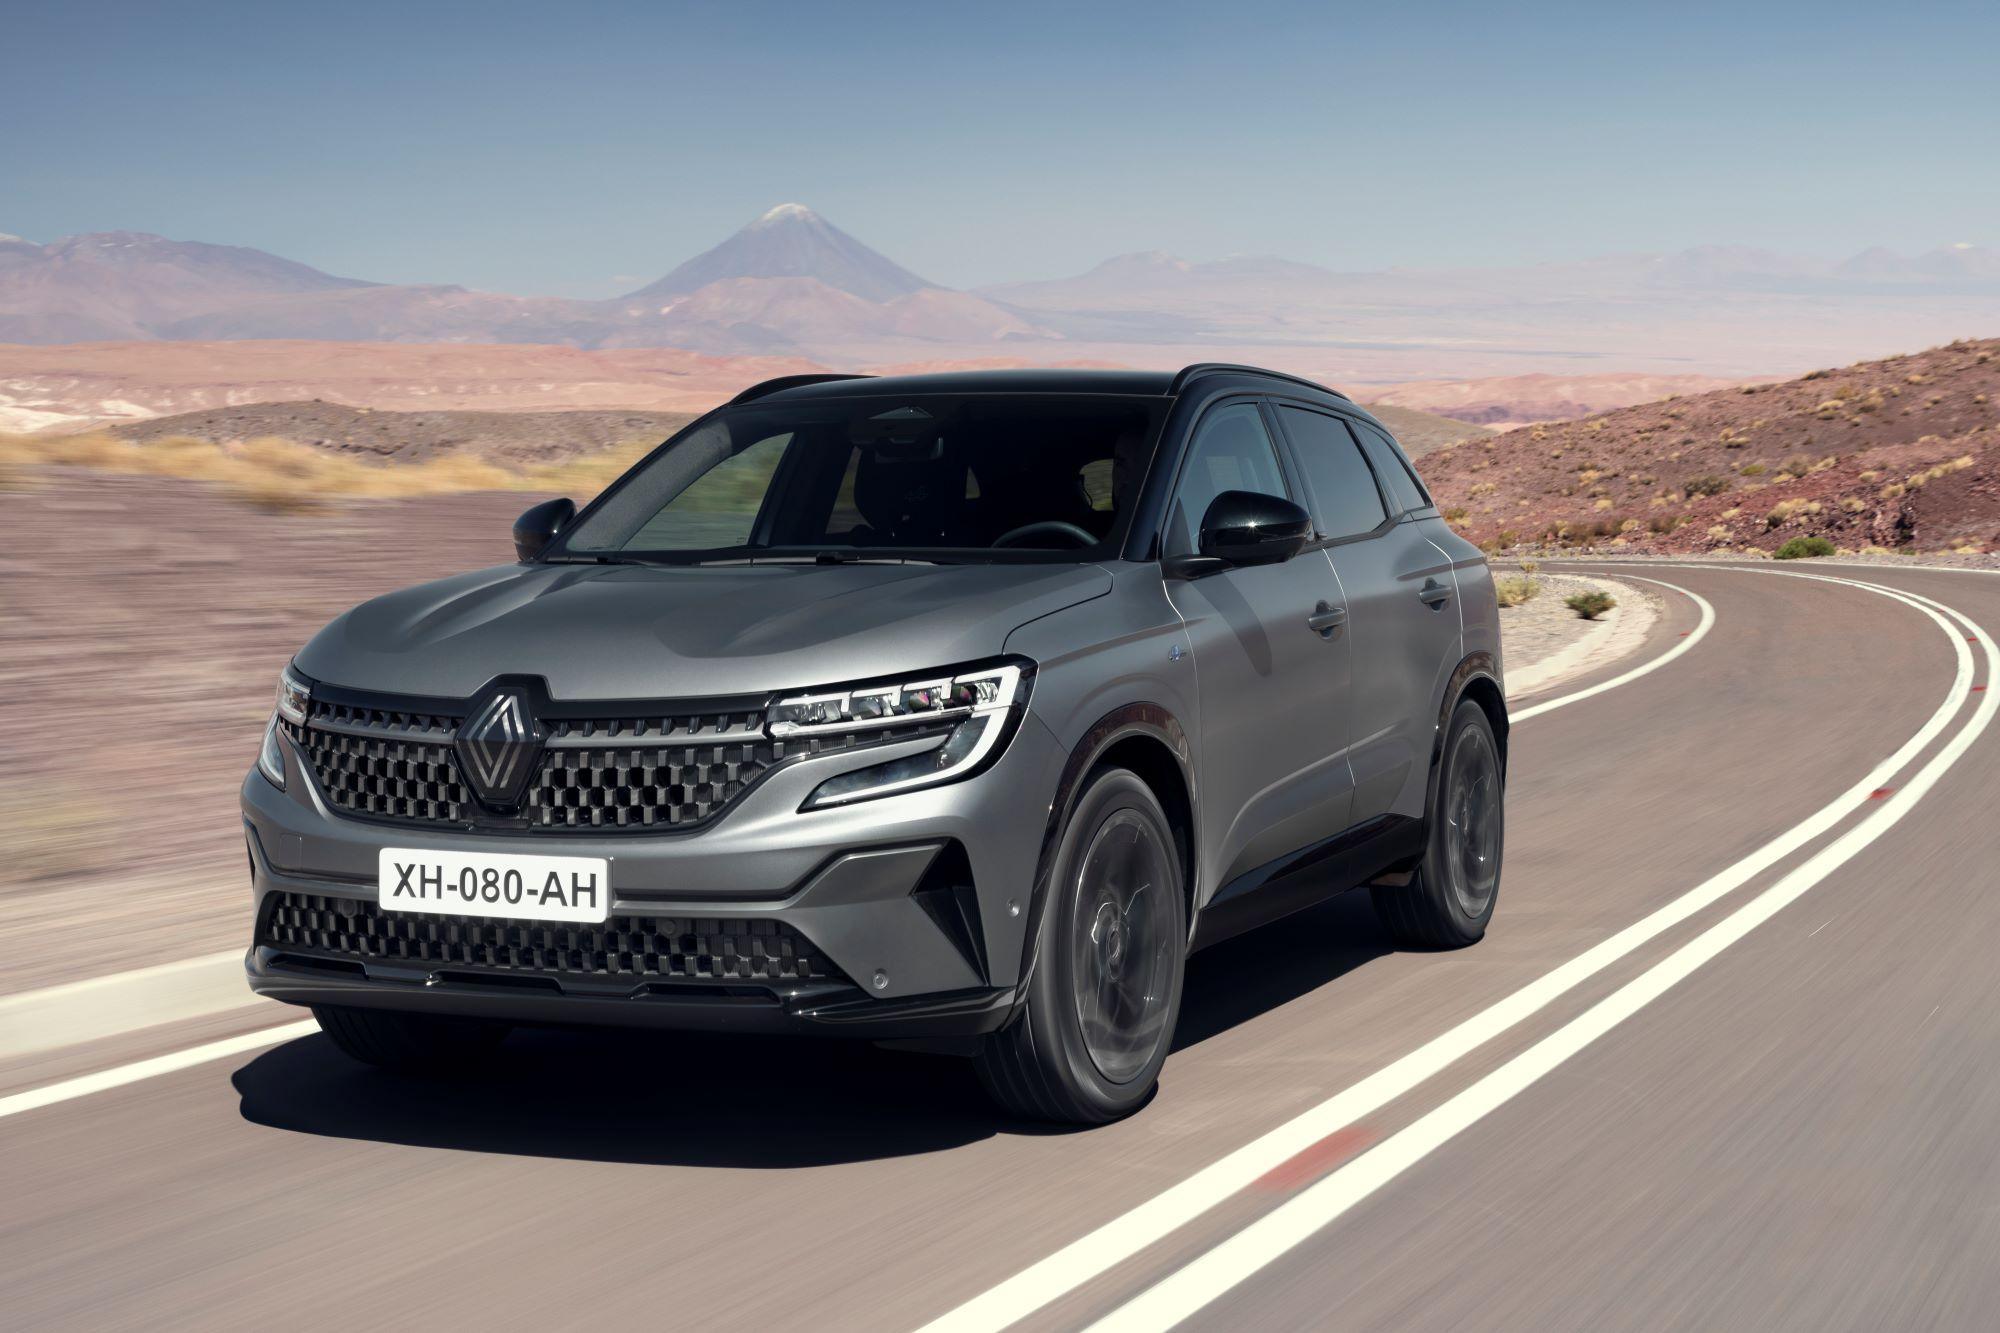Renault: (437, 671, 556, 809)
